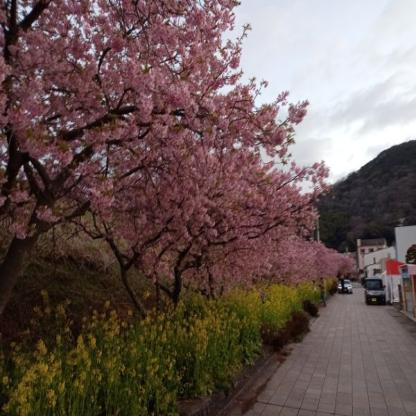KawazuSakura: (0, 0, 345, 241), (193, 236, 358, 304)
